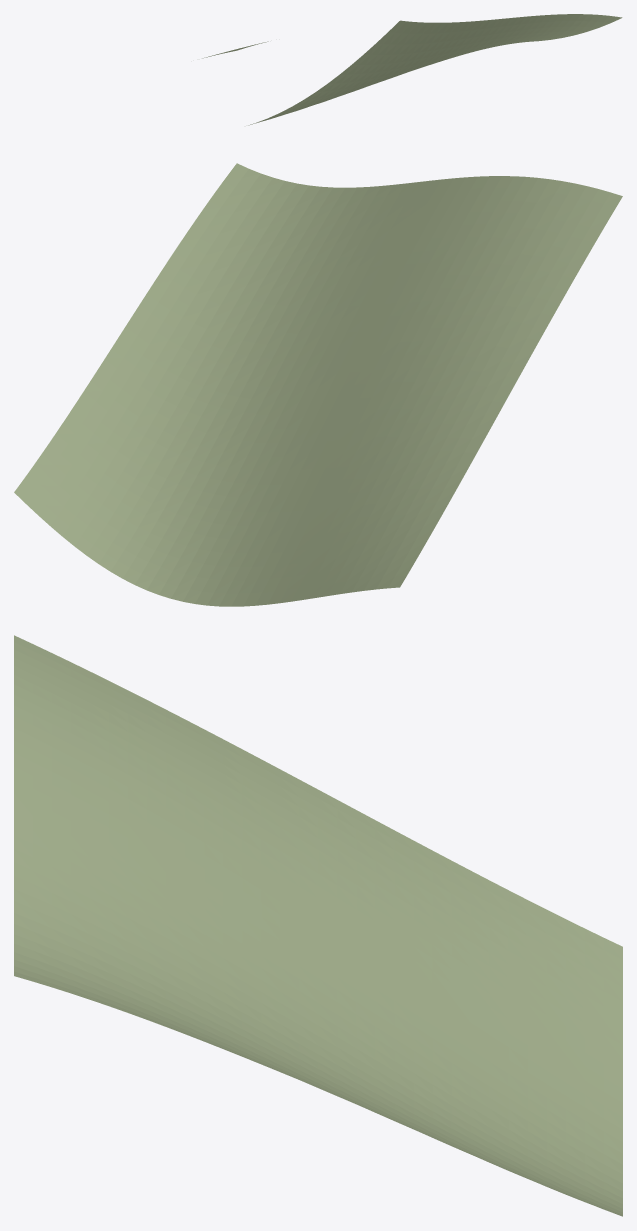
The model's file is expanse-15-2.glb.
3 renders of one model, top to bottom at view 1: azimuth 30°, elevation 25°; view 2: azimuth 150°, elevation 25°; view 3: azimuth 270°, elevation 25°, orthographic. The views are drawn at different scales.
Visible parts, largest first — view 1: expanse-15-2; view 2: expanse-15-2; view 3: expanse-15-2.
Boxes of the visible parts, bbox=[...] form: expanse-15-2: bbox=[202, 14, 622, 125]; expanse-15-2: bbox=[14, 163, 622, 606]; expanse-15-2: bbox=[14, 635, 622, 1216].
Size of the model in its own units: 256 by 188 by 256.
